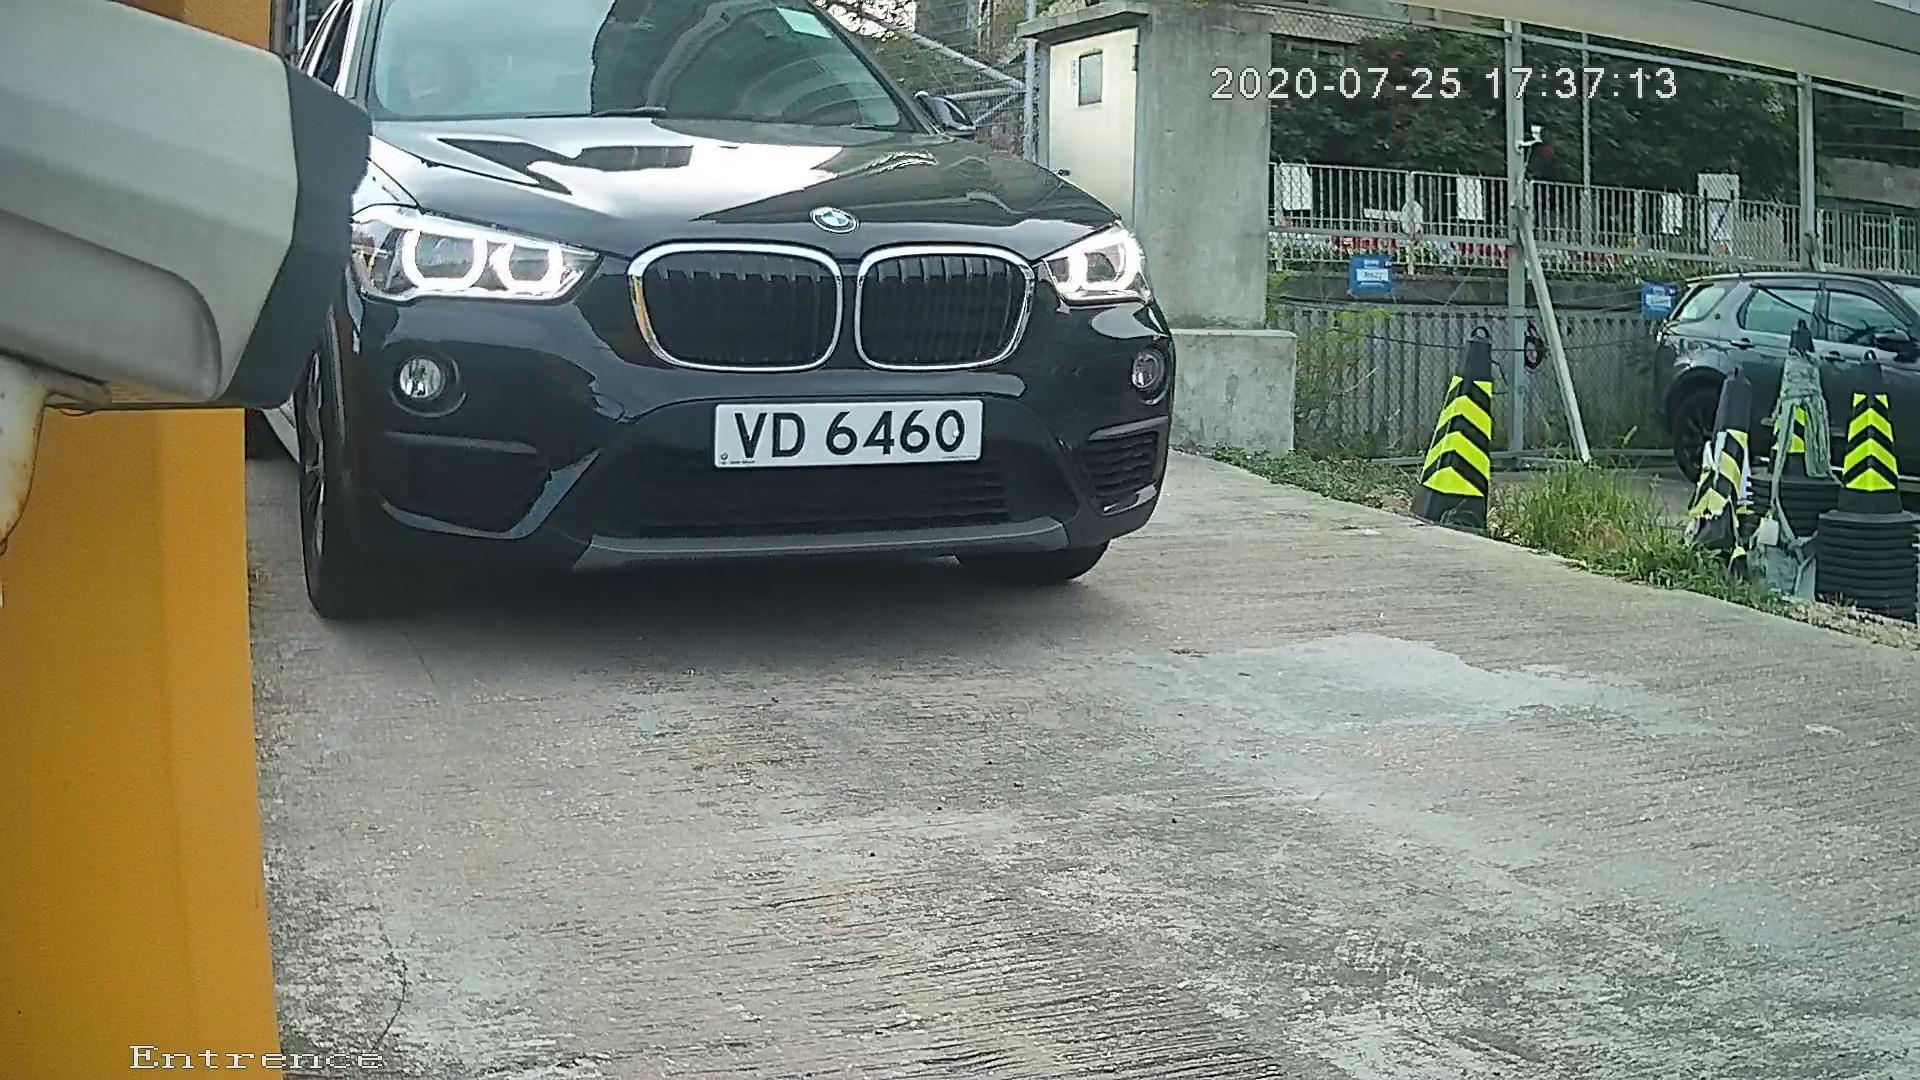privatecar: (215, 11, 1364, 642)
